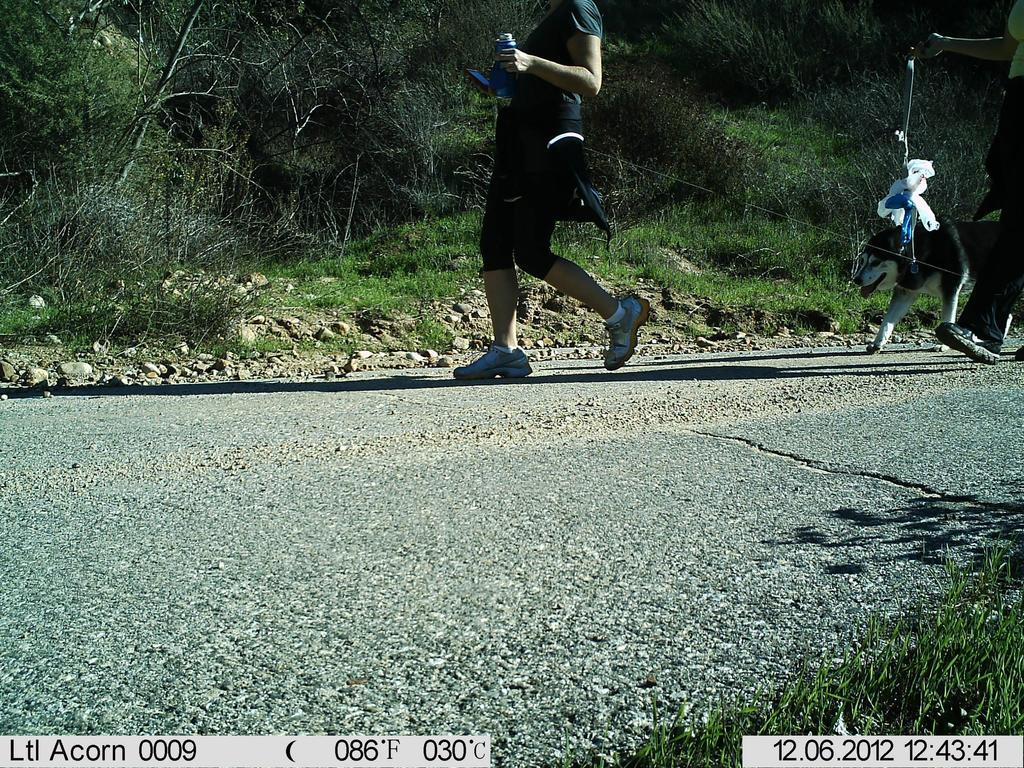dog: (853, 207, 1023, 349)
